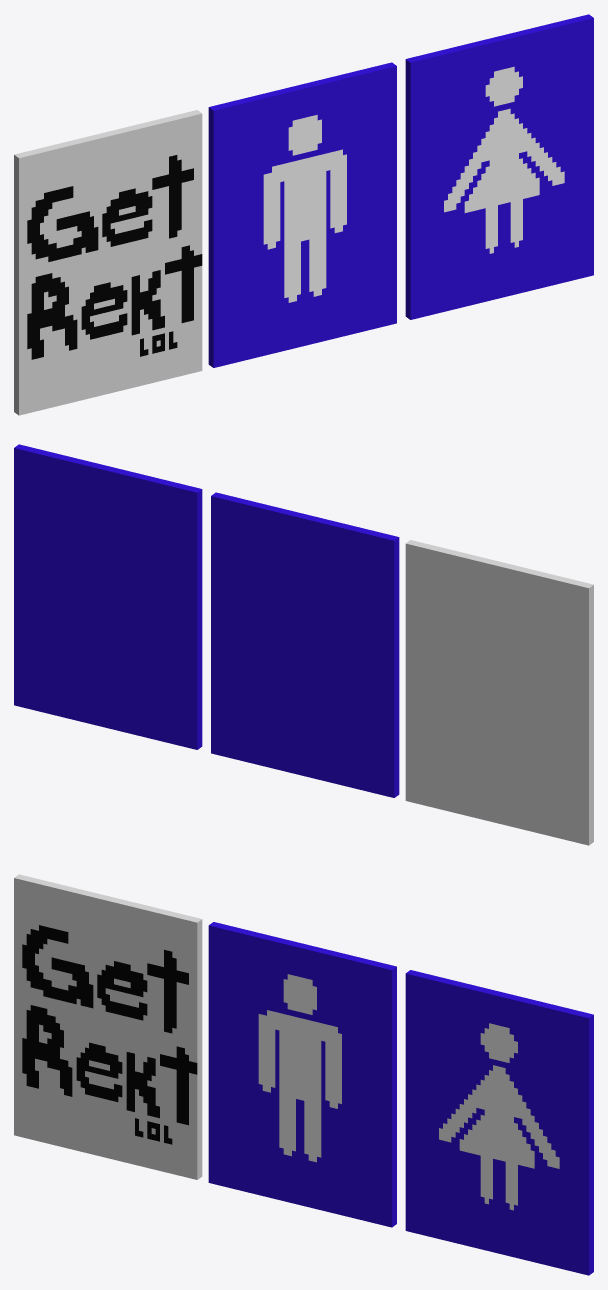
File: GetRektAndSigns.fbx
3 views of the same model, one above another, from view 1: azimuth 30°, elevation 25°; view 2: azimuth 150°, elevation 25°; view 3: azimuth 330°, elevation 25° (orthographic).
Parts seen in each view (by area): view 1: GetRekt, MaleRestroomSign, FemaleRestroomSign; view 2: GetRekt, MaleRestroomSign, FemaleRestroomSign; view 3: GetRekt, MaleRestroomSign, FemaleRestroomSign.
Part boxes in pixels (left/top/right/bottom): GetRekt: left=14, top=110, right=202, bottom=415; MaleRestroomSign: left=208, top=62, right=396, bottom=367; FemaleRestroomSign: left=405, top=14, right=593, bottom=319; GetRekt: left=405, top=540, right=593, bottom=845; MaleRestroomSign: left=211, top=492, right=399, bottom=797; FemaleRestroomSign: left=14, top=444, right=202, bottom=749; GetRekt: left=14, top=874, right=202, bottom=1179; MaleRestroomSign: left=208, top=922, right=396, bottom=1227; FemaleRestroomSign: left=405, top=970, right=593, bottom=1275.
Bounding box in the file's own units: 186 × 79.74 × 2.81.
